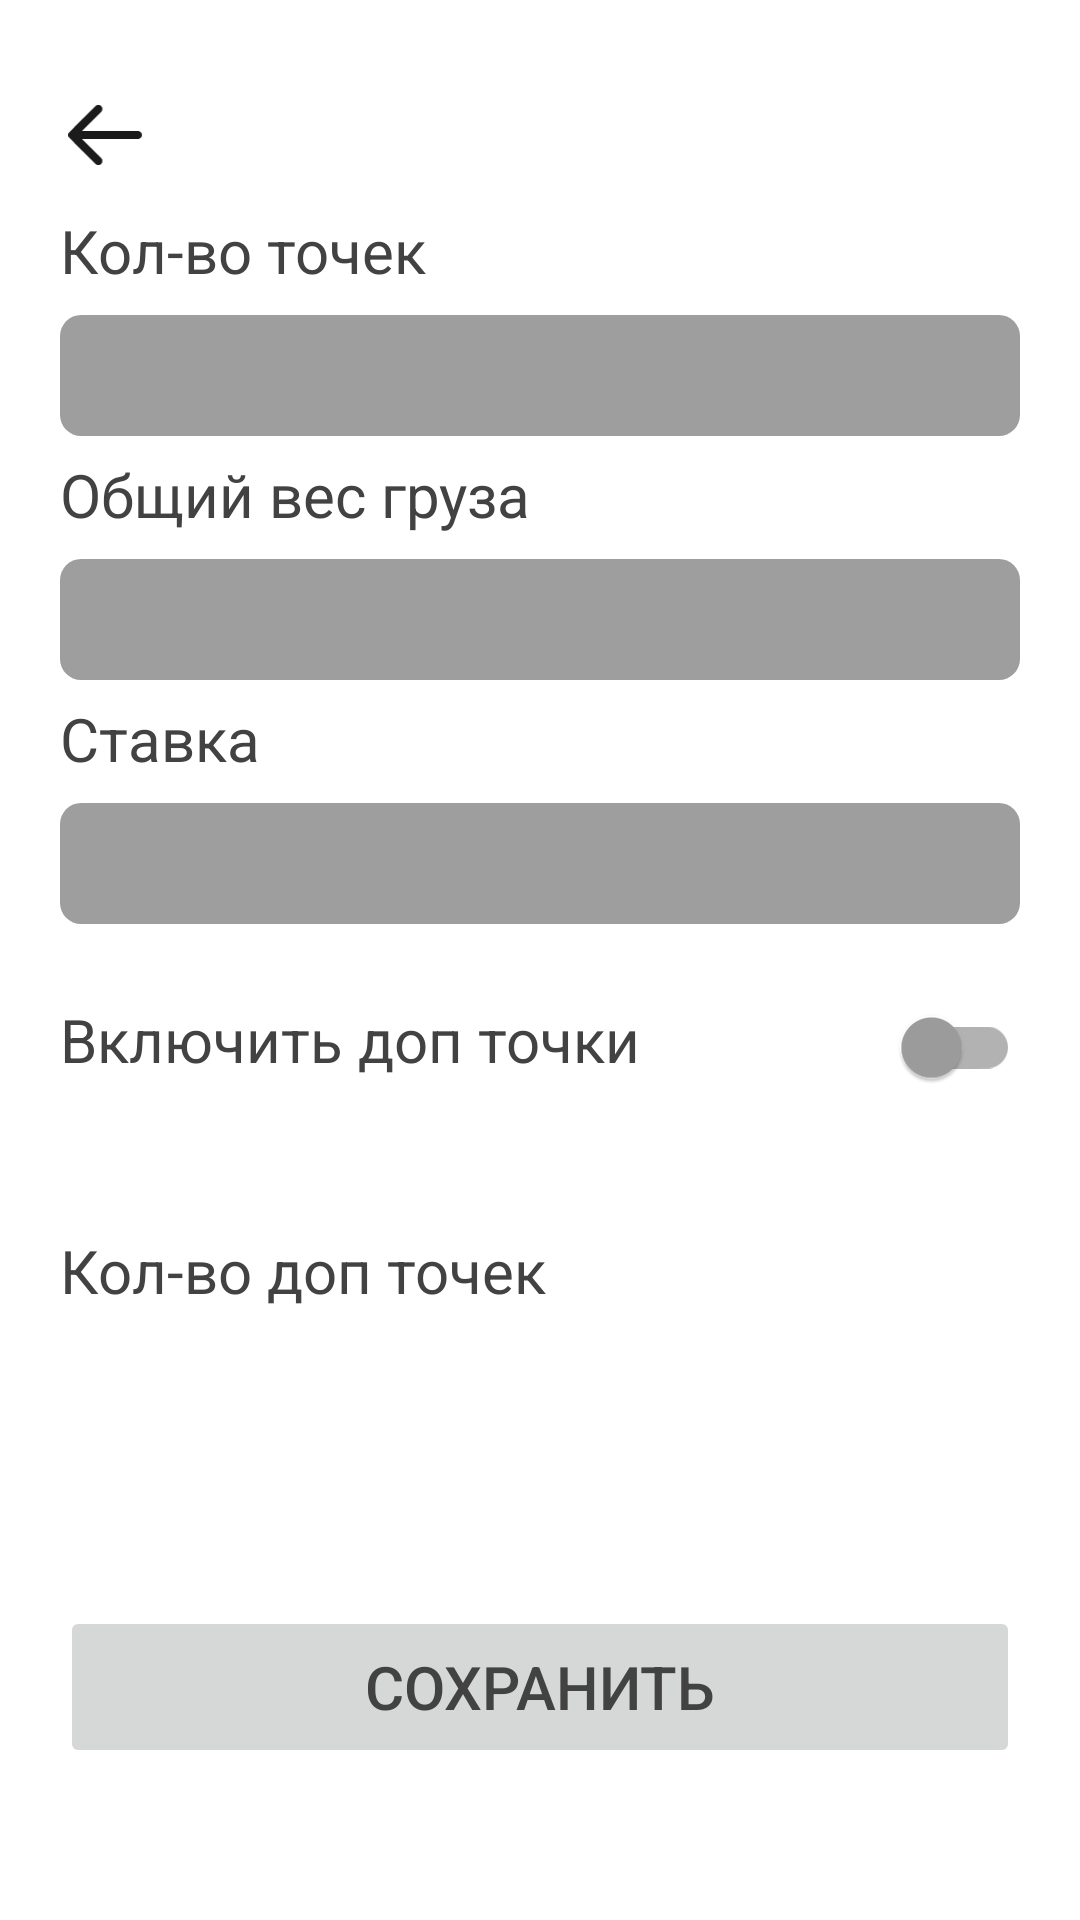

Icon click points for this 1080 x 1920 phone screenshot, format (x=x, y=y):
navbar left: (x=105, y=135)
